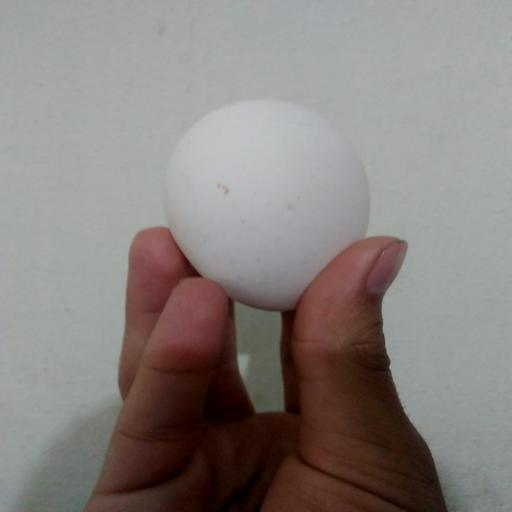telur: (163, 100, 370, 312)
